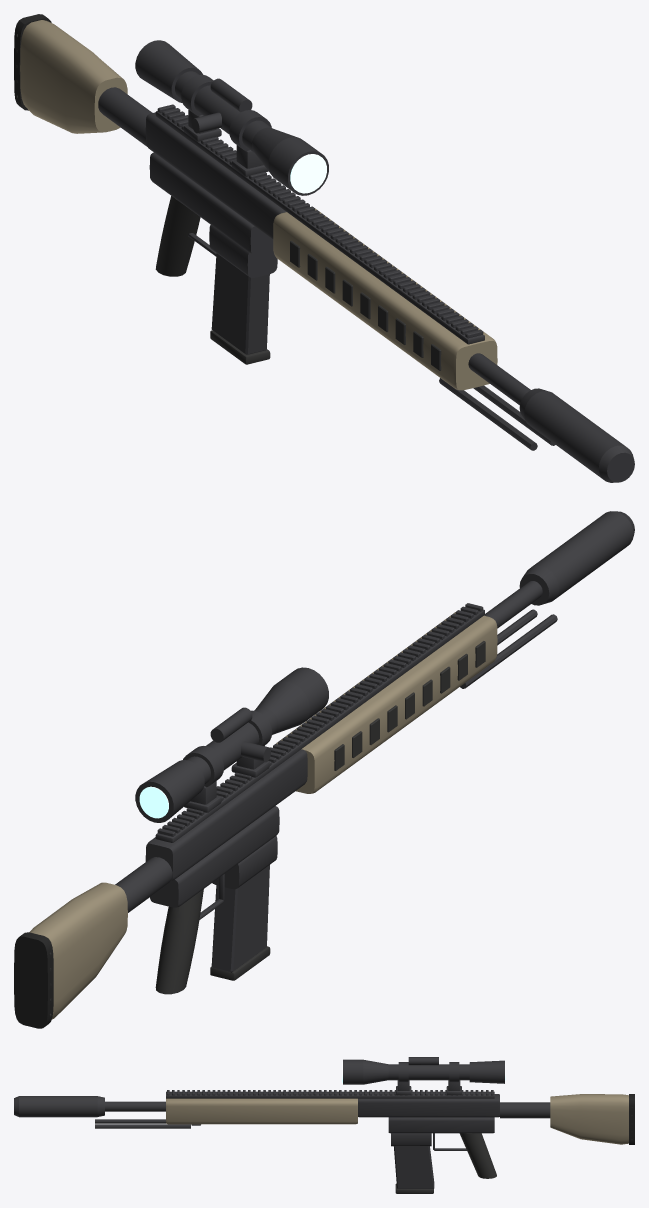
File: eagle.glb
The picture shows the model from 3 angles, top to bottom: view 1: azimuth 30°, elevation 25°; view 2: azimuth 150°, elevation 25°; view 3: azimuth 270°, elevation 25°; orthographic projection. The views are drawn at different scales.
Visible parts, largest first — view 1: Body; view 2: Body; view 3: Body.
Part boxes in pixels (x1,y1,x2,y2): Body: (14, 14, 634, 482); Body: (14, 511, 634, 1028); Body: (14, 1057, 634, 1193).
Bounding box in the file's own units: 0.069 × 0.291 × 1.23.
